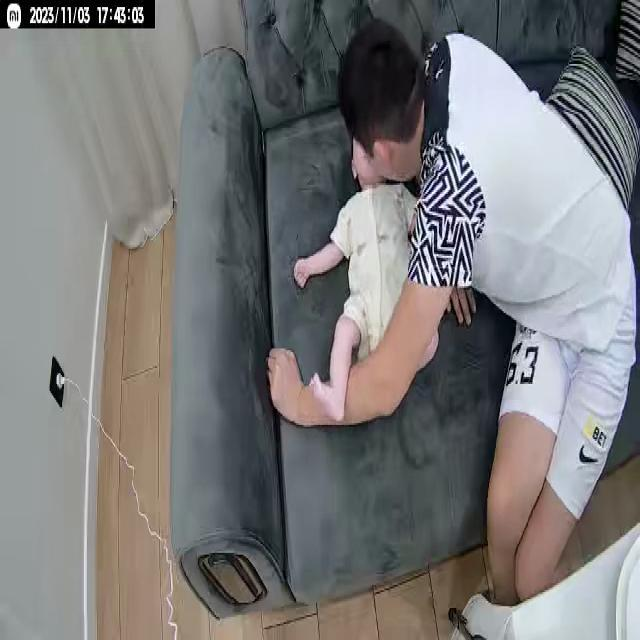baby: (290, 132, 444, 428)
